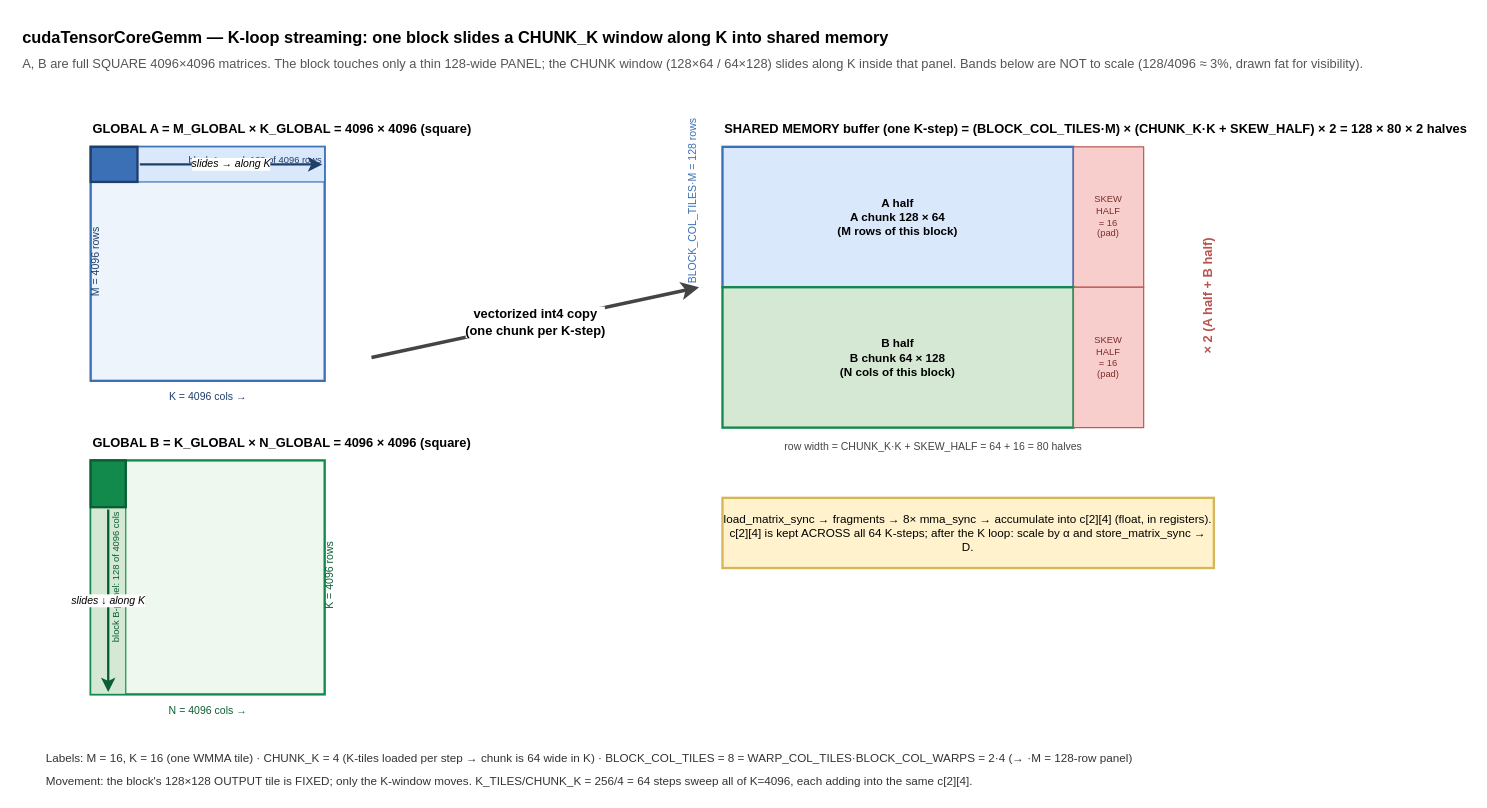
Some shapes in this 1487 by 808 pixel diagram are drawn without their labels. Each missing label, with the centre of its shape:
"A chunk 128×64" belongs at pixel 113 164.
"B chunk 64×128" belongs at pixel 107 483.
